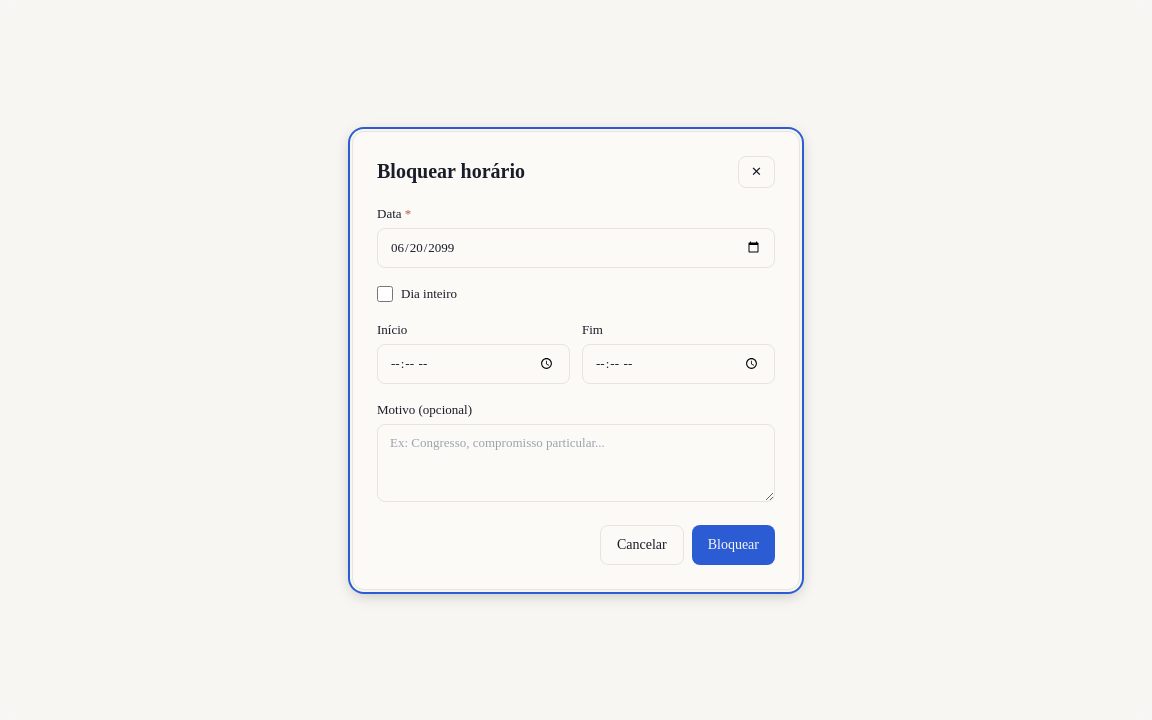
Scenario: BlockTimeDialog (integration) › shows validation error when startTime >= endTime
Type "12:00" into the time field with test id "block-dialog-start-time".
click(474, 364); type("12:00")  # box [377,344,570,384]
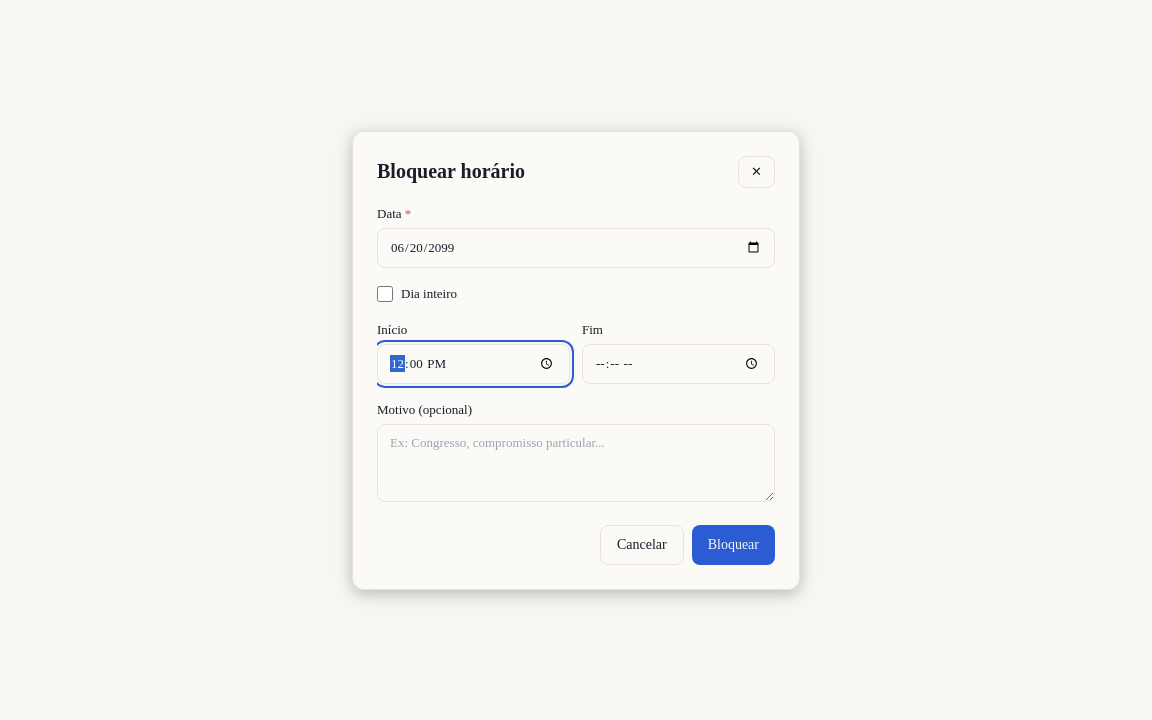
Type "08:00" into the time field with test id "block-dialog-end-time".
click(678, 364); type("08:00")  # box [582,344,775,384]
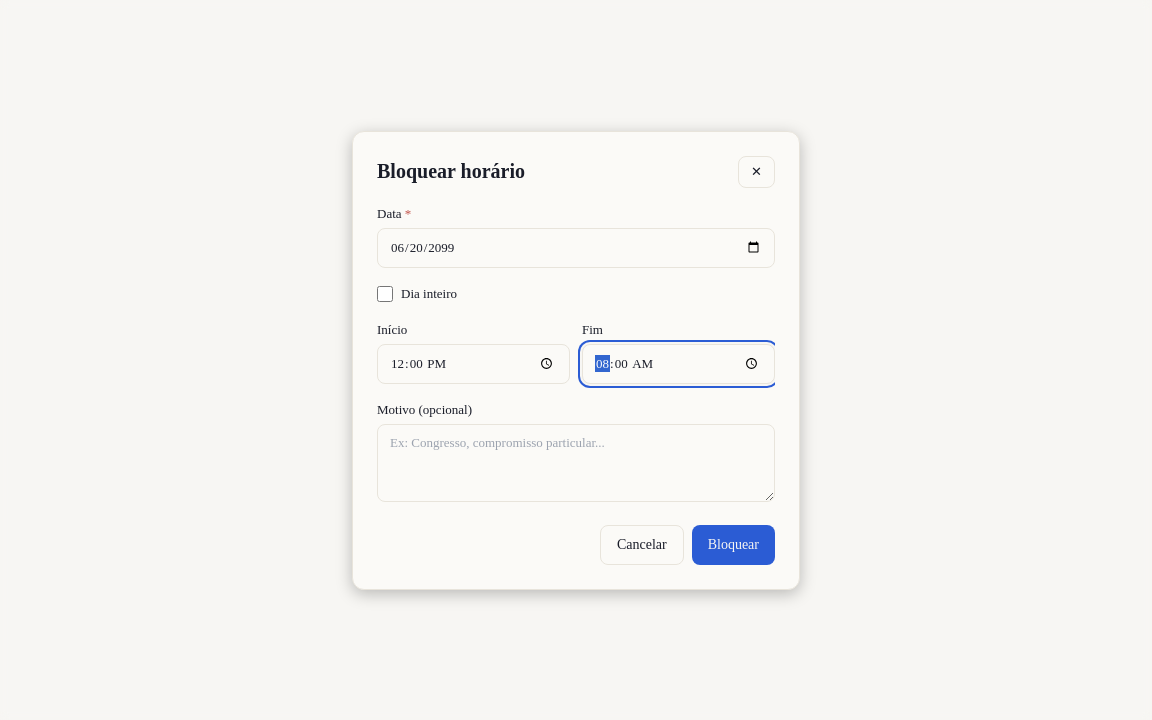
Click the button with test id "block-dialog-submit".
click(733, 544)  # box [692,524,775,564]
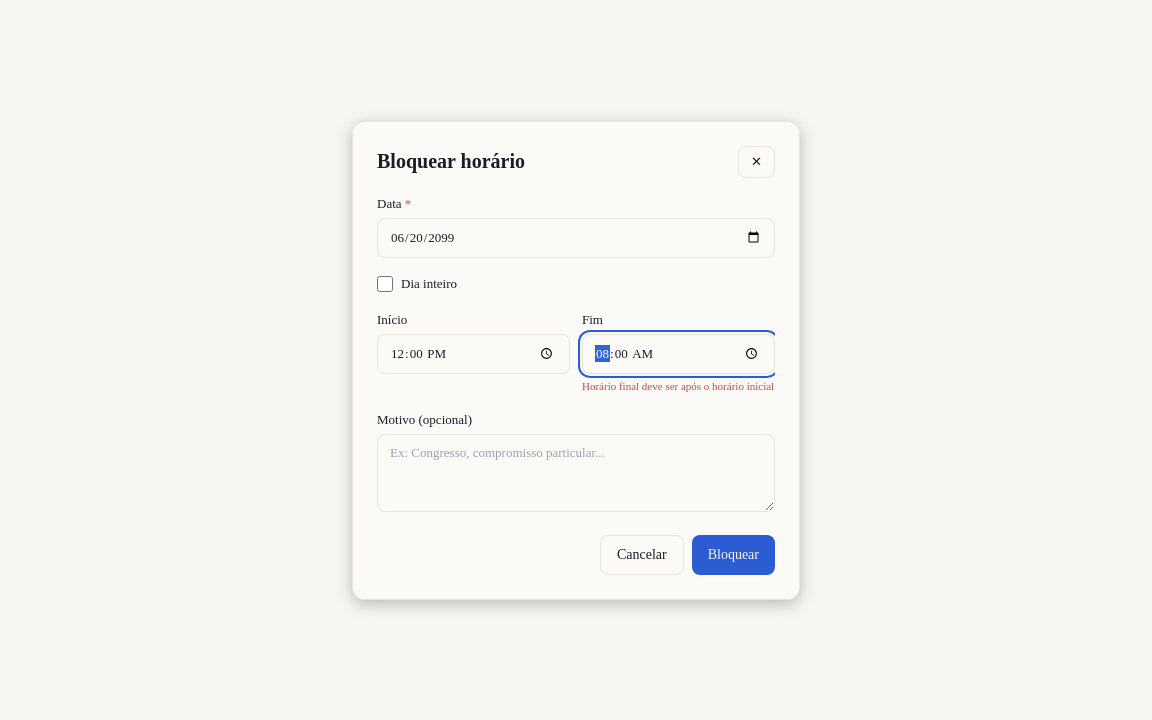
Result: the text "Horário final deve ser após o horário inicial" is shown at [582,378,775,394]
